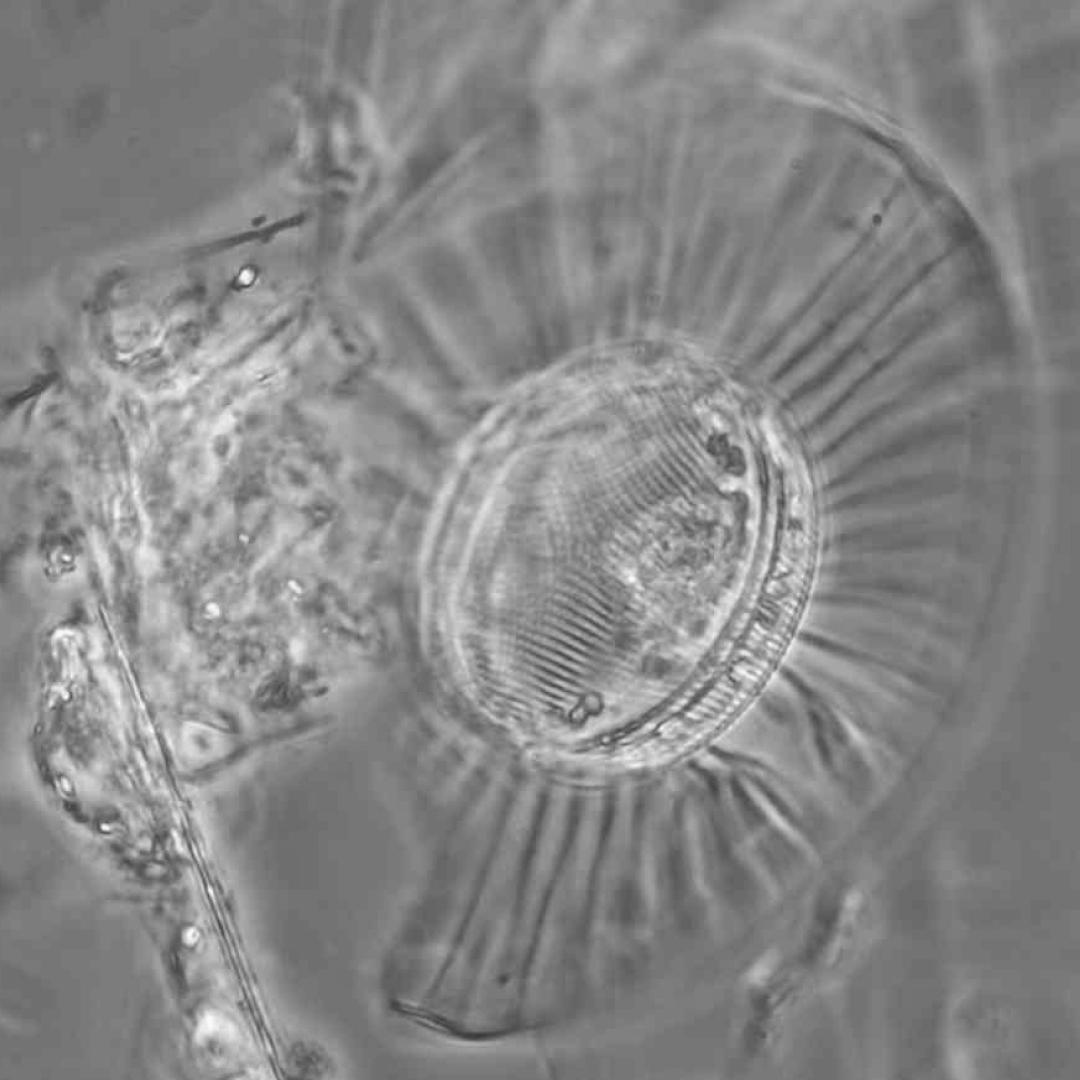planktoniella_sol: (273, 76, 1023, 1036)
